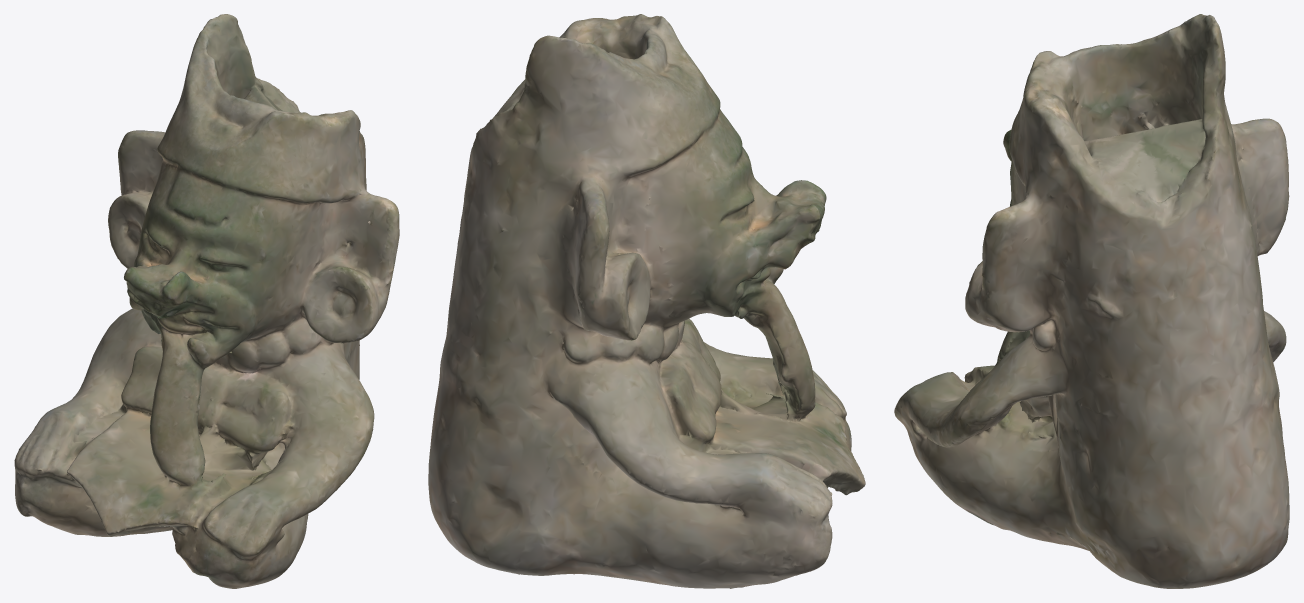
File: preview.glb
The picture shows the model from 3 angles, left to right: view 1: azimuth 30°, elevation 25°; view 2: azimuth 150°, elevation 25°; view 3: azimuth 270°, elevation 25°; orthographic projection. The views are drawn at different scales.
Visible parts, largest first — view 1: Object_2; view 2: Object_2; view 3: Object_2.
Part boxes in pixels (left/top/right/bottom): Object_2: left=14, top=14, right=399, bottom=588; Object_2: left=428, top=14, right=865, bottom=588; Object_2: left=894, top=14, right=1289, bottom=588.
Size of the model in its own units: 108 by 148 by 99.03.
